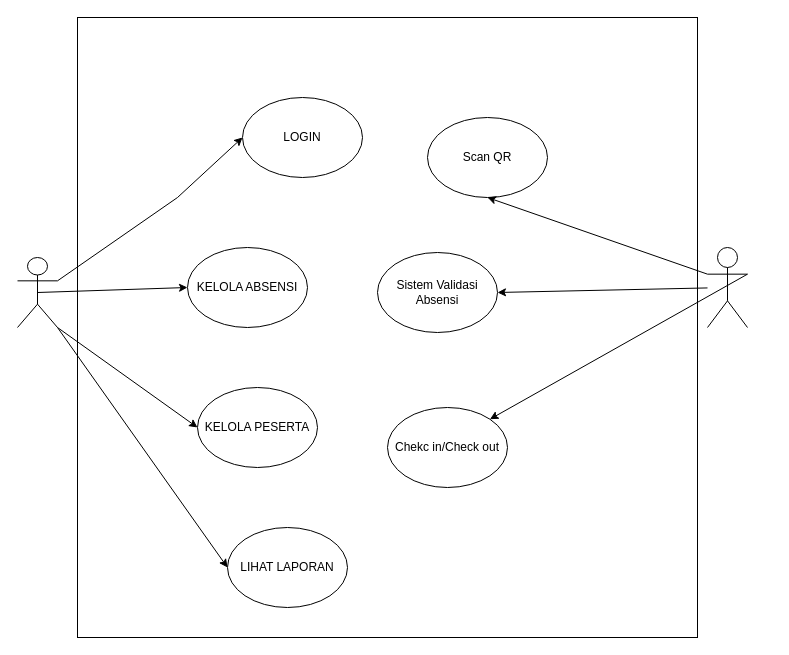
The diagram is 789 pixels wide and 655 high, and some of its shapes have lost their labels. The shapes that lost their labels are listed below. From the top down, each one's box as (x1, y1, x2, y2) in pixels, then its label:
(16, 256, 58, 328): Admin
(706, 246, 748, 328): ANAK MAGANG
